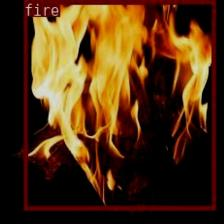fire: (22, 0, 214, 209)
